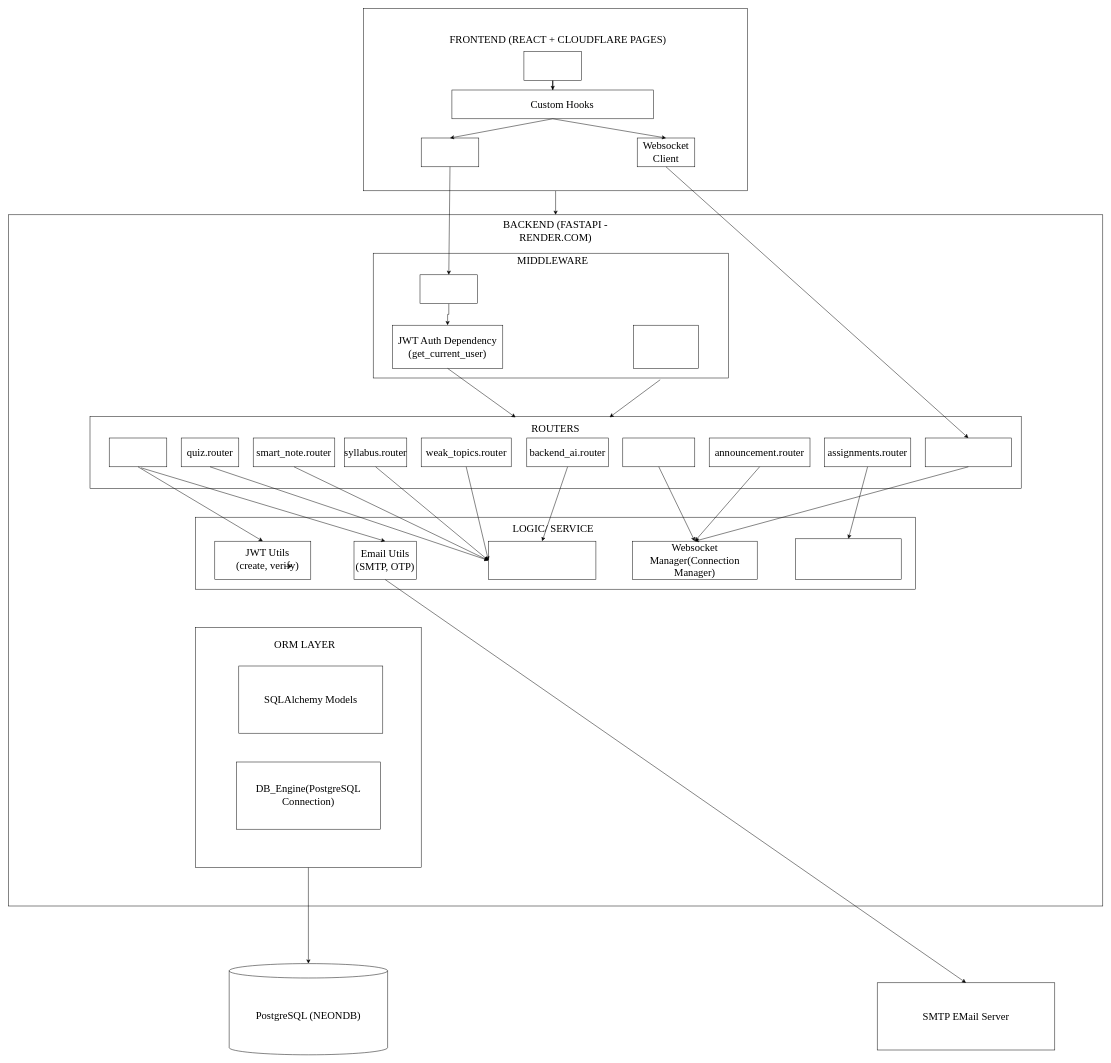
Some shapes in this 1111 by 1063 pixel diagram are drawn without their labels. Here are the shapes that lost their labels. From the top down, the box of each, then its label:
(523, 51, 582, 80): Pages/Routes
(421, 138, 479, 167): Axios HTTP Client
(420, 274, 478, 304): CORS Middleware
(633, 325, 699, 368): DB Session Dependency (get_db)
(109, 438, 167, 467): auth.router
(622, 438, 695, 467): classroom.router
(925, 438, 1012, 467): messaging.router
(488, 541, 596, 580): OpenAI Client (Syllabus, Quiz, notes)
(795, 538, 901, 580): Static File upload server
